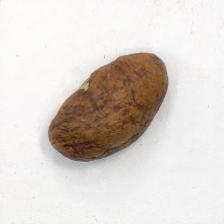NG: (75, 72, 98, 98)
